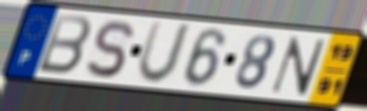6: (181, 26, 230, 90)
8: (234, 33, 277, 91)
B: (35, 12, 94, 77)
N: (268, 35, 329, 98)
S: (83, 18, 136, 80)
U: (134, 19, 196, 87)
